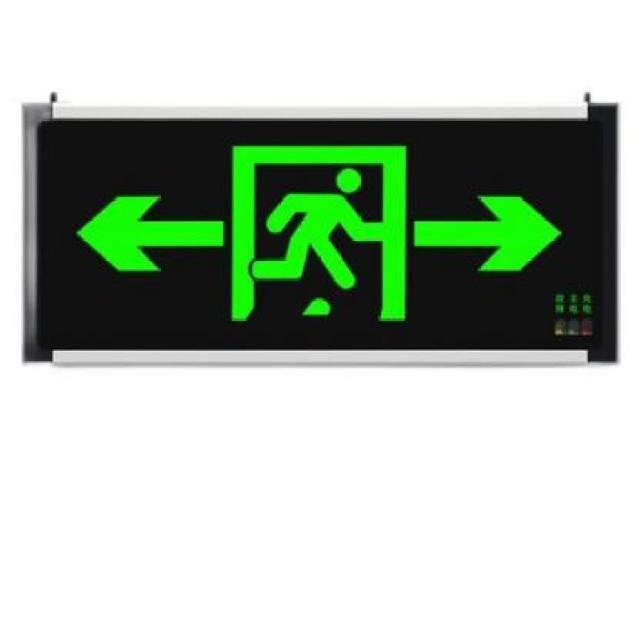exit_sign: (25, 96, 609, 372)
